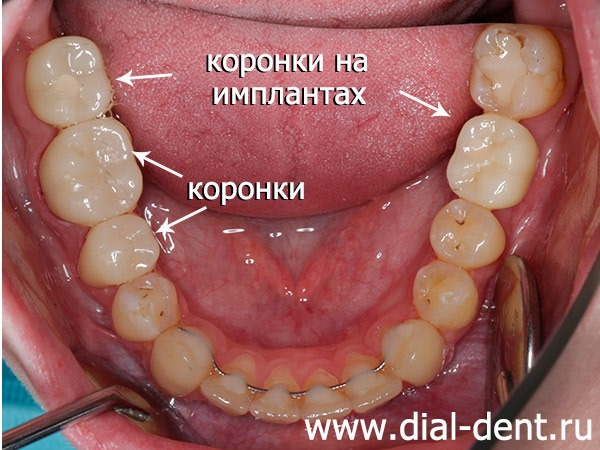LL1BC_decay: (414, 261, 475, 325)
LL1M_healthy: (454, 115, 537, 204)
LL2BC_decay: (431, 200, 505, 264)
LL2M_decay: (471, 24, 562, 114)
LLCI_decay: (304, 371, 349, 418)
LLC_healthy: (385, 327, 446, 379)
LLLI_decay: (345, 358, 400, 412)
LR1BC_decay: (113, 272, 180, 338)
LR1M_healthy: (40, 119, 130, 219)
LR2BC_healthy: (80, 213, 156, 278)
LR2M_healthy: (25, 37, 110, 125)
LRCI_decay: (254, 371, 300, 422)
LRC_decay: (154, 327, 206, 396)
LRLI_decay: (205, 353, 254, 414)
